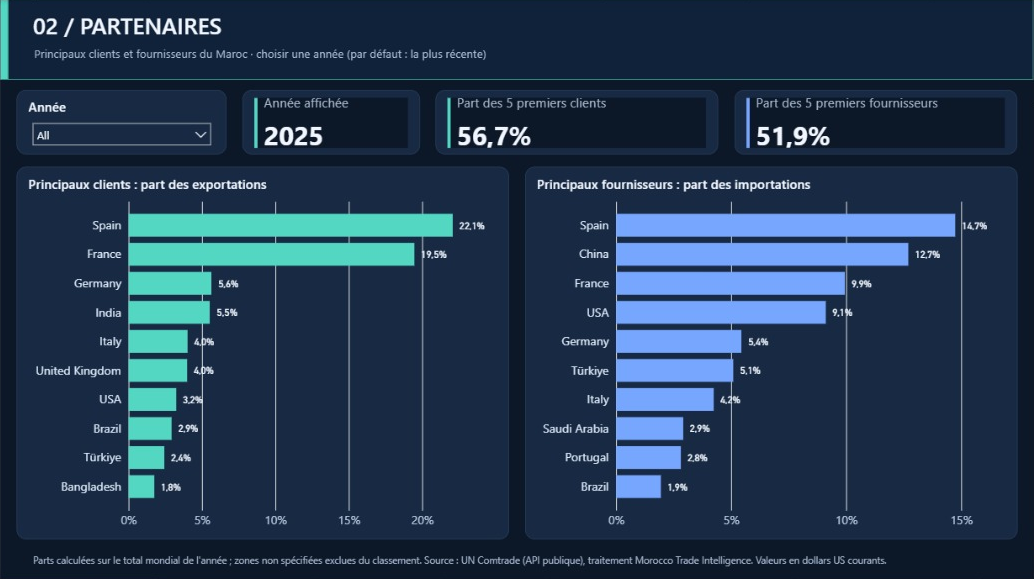

This screenshot's page, from the dashboard's own definition file:
{"tool":"powerbi","page":{"name":"Partenaires","canvas":[1280,720],"ordinal":1},"visuals":[{"type":"shape","box":[0,0,1280,100],"z":100},{"type":"shape","box":[0,0,10,100],"z":200},{"type":"textbox","box":[40,14,1100,44],"z":300},{"type":"textbox","box":[42,58,1180,30],"z":400},{"type":"textbox","box":[40,684,1200,28],"z":500},{"type":"slicer","title":"Année","fields":{"Values":["dim_year.year"]},"box":[20,112,260,80],"z":600},{"type":"cardVisual","fields":{"Data":["dim_year.Année affichée"]},"box":[300,112,220,80],"z":700},{"type":"cardVisual","fields":{"Data":["mart_partner_shares.Part des 5 premiers clients"]},"box":[540,112,350,80],"z":800},{"type":"cardVisual","fields":{"Data":["mart_partner_shares.Part des 5 premiers fournisseurs"]},"box":[910,112,350,80],"z":900},{"type":"clusteredBarChart","title":"Principaux clients : part des exportations","fields":{"Category":["mart_partner_shares.partner_name"],"Y":["mart_partner_shares.Part des exportations (top 10)"]},"box":[20,208,610,462],"z":1000},{"type":"clusteredBarChart","title":"Principaux fournisseurs : part des importations","fields":{"Category":["mart_partner_shares.partner_name"],"Y":["mart_partner_shares.Part des importations (top 10)"]},"box":[650,208,610,462],"z":1100}]}

Visuals, with their boxes in screenshot pixels (x1, y1, x2, y2), scaled from the page's 1280x720 canvas onto the 1034x579 screenshot:
shape: select_region(0, 0, 1033, 80)
shape: select_region(0, 0, 8, 80)
textbox: select_region(32, 11, 921, 47)
textbox: select_region(34, 47, 987, 71)
textbox: select_region(32, 550, 1002, 573)
"Année" slicer: select_region(16, 90, 226, 154)
cardVisual - dim_year.Année affichée: select_region(242, 90, 420, 154)
cardVisual - mart_partner_shares.Part des 5 premiers clients: select_region(436, 90, 719, 154)
cardVisual - mart_partner_shares.Part des 5 premiers fournisseurs: select_region(735, 90, 1018, 154)
"Principaux clients : part des exportations" clusteredBarChart: select_region(16, 167, 509, 539)
"Principaux fournisseurs : part des importations" clusteredBarChart: select_region(525, 167, 1018, 539)
